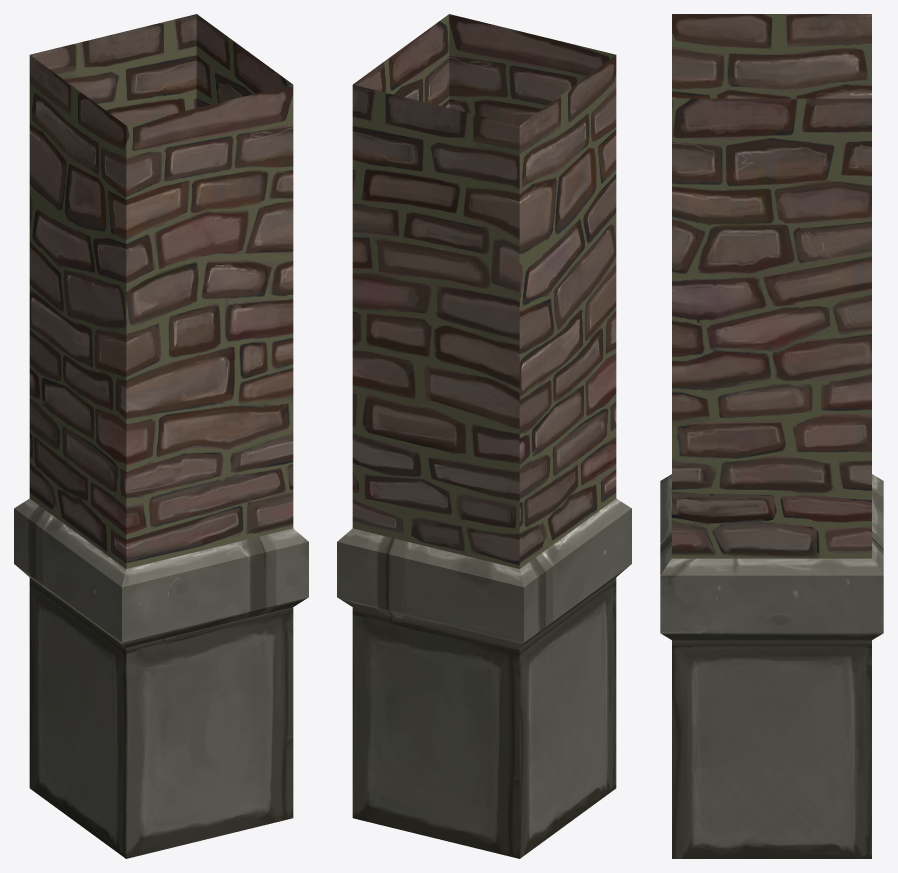
File: ColumnBase.FBX
3 renders of one model, left to right at view 1: azimuth 30°, elevation 25°; view 2: azimuth 150°, elevation 25°; view 3: azimuth 270°, elevation 25°, orthographic. The views are drawn at different scales.
Parts seen in each view (by area): view 1: ColumnBase; view 2: ColumnBase; view 3: ColumnBase.
Boxes of the visible parts, left/top/right/bottom form: ColumnBase: left=14, top=14, right=308, bottom=858; ColumnBase: left=337, top=14, right=631, bottom=858; ColumnBase: left=660, top=14, right=883, bottom=858.
Size of the model in its own units: 0.6707 by 0.6707 by 2.52.
